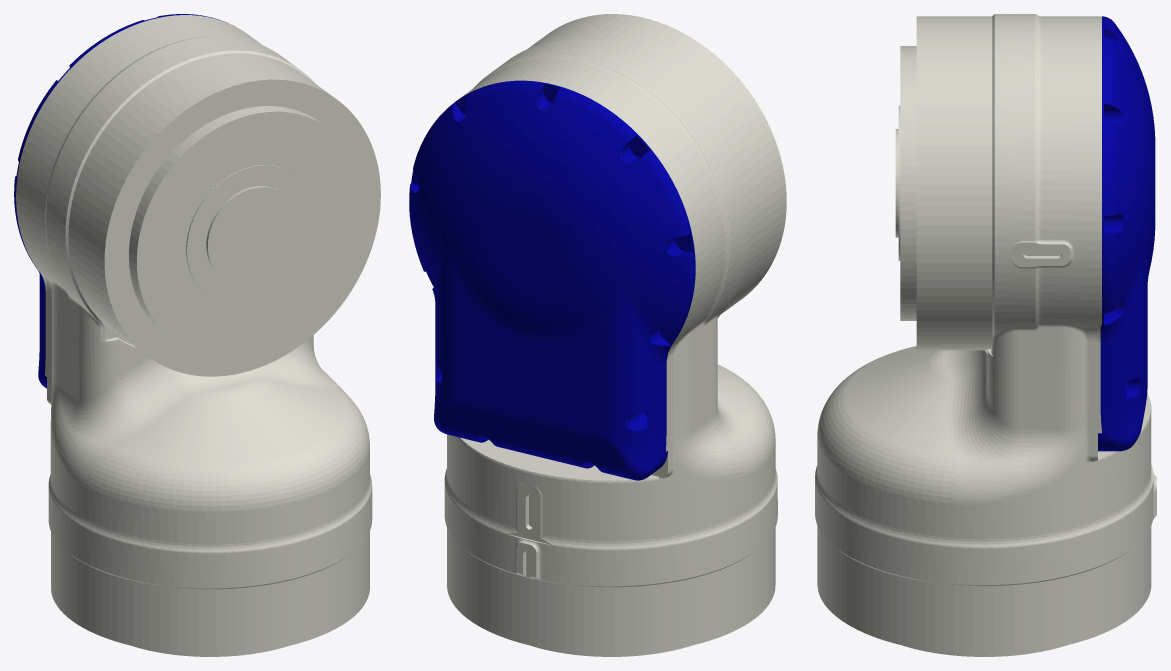
3 views of the same model, side by side, from view 1: azimuth 30°, elevation 25°; view 2: azimuth 150°, elevation 25°; view 3: azimuth 270°, elevation 25° (orthographic). The views are drawn at different scales.
Parts seen in each view (by area): view 1: Base, Cover; view 2: Base, Cover; view 3: Base, Cover.
Part boxes in pixels (box(x1,y1,x2,y2)): Base: box(16, 15, 380, 656); Cover: box(14, 14, 270, 388); Base: box(444, 14, 786, 656); Cover: box(409, 80, 695, 480); Base: box(815, 14, 1156, 656); Cover: box(1098, 16, 1155, 451).
Bounding box in the file's own units: 0.218 × 0.22 × 0.407.
